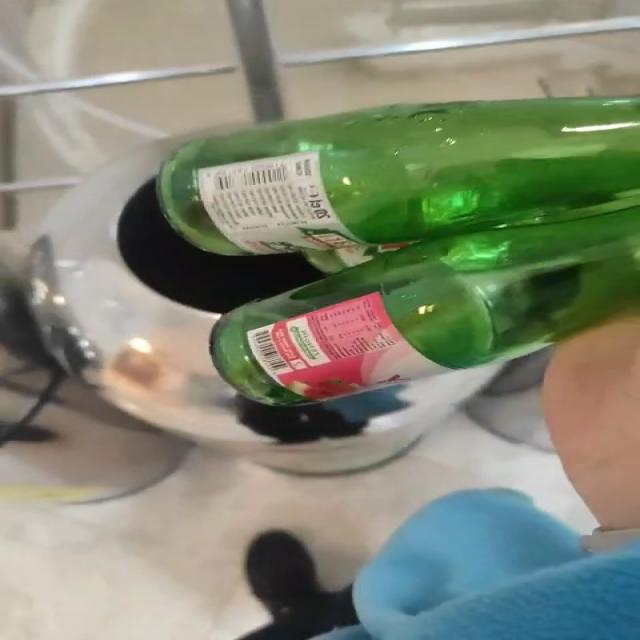glass: (156, 97, 637, 406)
